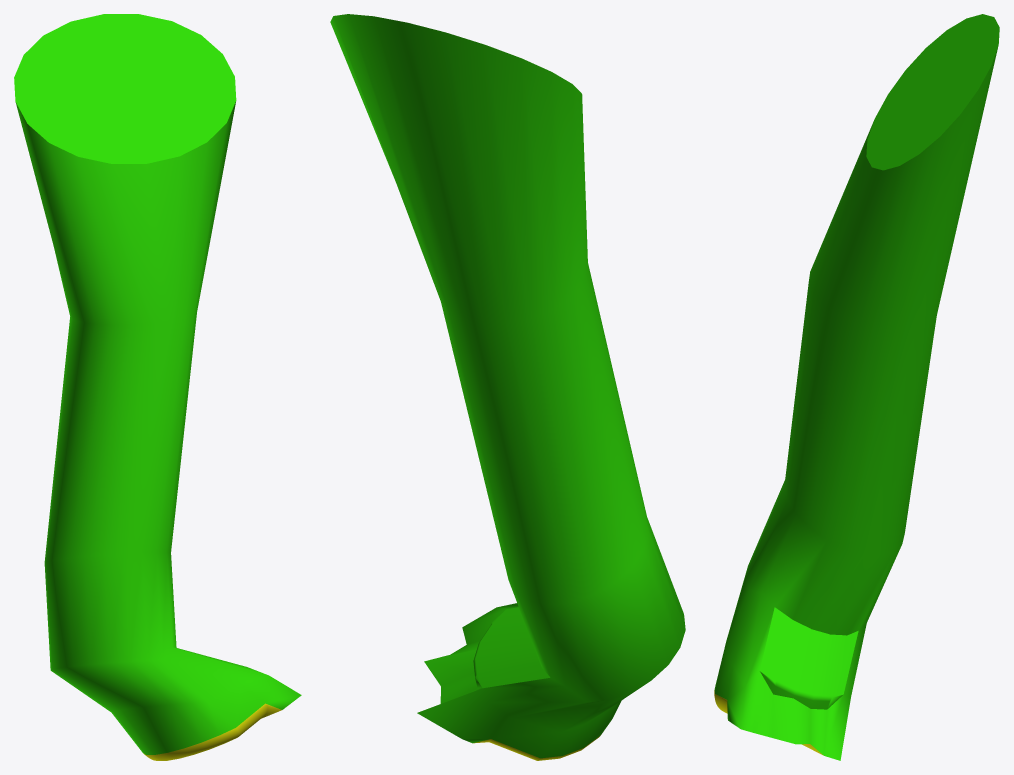
Rendered from Front Left Leg.fbx.
3 renders of one model, left to right at view 1: azimuth 30°, elevation 25°; view 2: azimuth 150°, elevation 25°; view 3: azimuth 270°, elevation 25°, orthographic. The views are drawn at different scales.
Parts seen in each view (by area): view 1: Back_Right_Leg; view 2: Back_Right_Leg; view 3: Back_Right_Leg.
Boxes of the visible parts, x1=… form: Back_Right_Leg: x1=14, y1=14, x2=301, y2=760; Back_Right_Leg: x1=330, y1=14, x2=685, y2=760; Back_Right_Leg: x1=714, y1=14, x2=999, y2=760.
Bounding box in the file's own units: 8.53 × 23.81 × 8.72.
